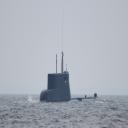submarine: (40, 52, 103, 104)
